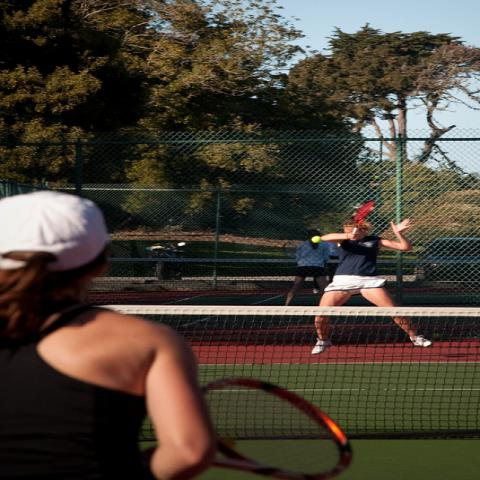car: (414, 238, 480, 281)
